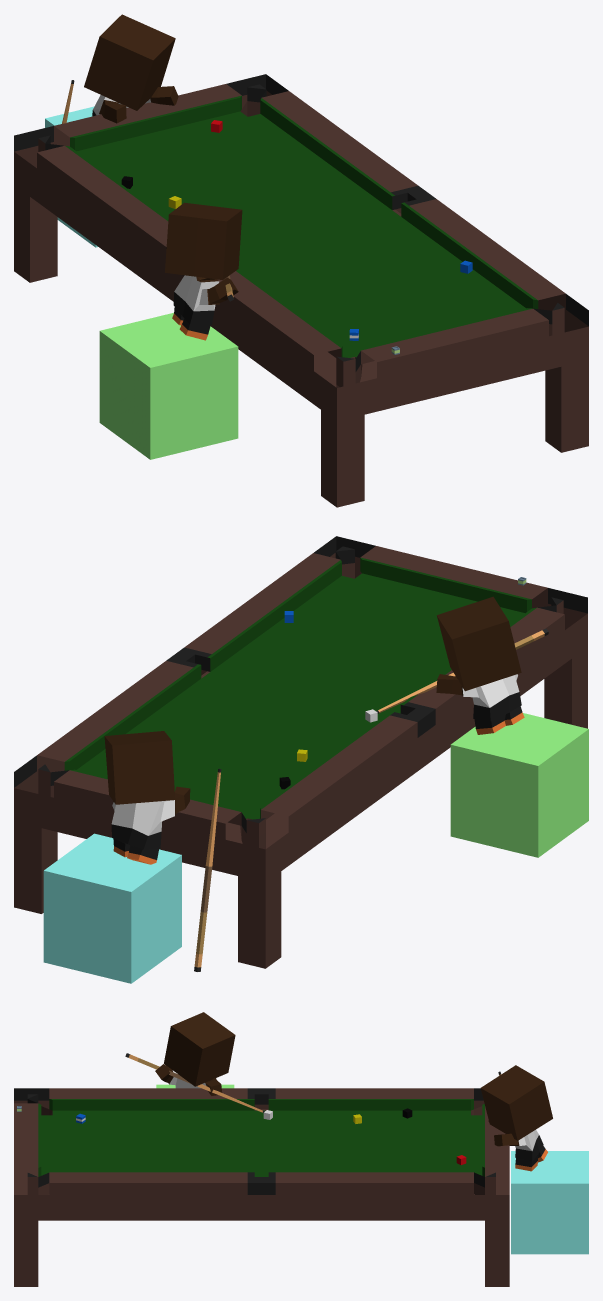
The model's file is Pool Table Area.gltf.
3 renders of one model, top to bottom at view 1: azimuth 30°, elevation 25°; view 2: azimuth 150°, elevation 25°; view 3: azimuth 270°, elevation 25°, orthographic. The views are drawn at different scales.
Visible parts, largest first — view 1: Pool Table, Green Cube, Character 1, Character 2; view 2: Pool Table, Blue Cube, Green Cube, Character 1, Character 2, Pool Stick.001, Pool Stick; view 3: Pool Table, Blue Cube, Character 2, Character 1, Pool Stick.
Boxes of the visible parts, <box> form: Pool Table: <box>14,74,588,507</box>; Green Cube: <box>99,312,238,459</box>; Character 1: <box>165,202,242,340</box>; Character 2: <box>84,14,178,123</box>; Pool Table: <box>14,536,587,968</box>; Blue Cube: <box>43,833,181,983</box>; Green Cube: <box>450,713,588,857</box>; Character 1: <box>436,596,524,734</box>; Character 2: <box>104,731,190,864</box>; Pool Stick.001: <box>194,768,221,971</box>; Pool Stick: <box>376,628,548,713</box>; Pool Table: <box>14,1088,509,1286</box>; Blue Cube: <box>511,1151,588,1254</box>; Character 2: <box>480,1065,552,1171</box>; Character 1: <box>155,1012,235,1095</box>; Pool Stick: <box>125,1053,264,1112</box>.
Size of the model in its own units: 5.64 by 3.33 by 10.58.
